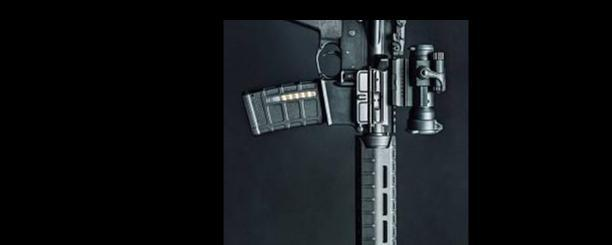larga: (243, 19, 448, 245)
